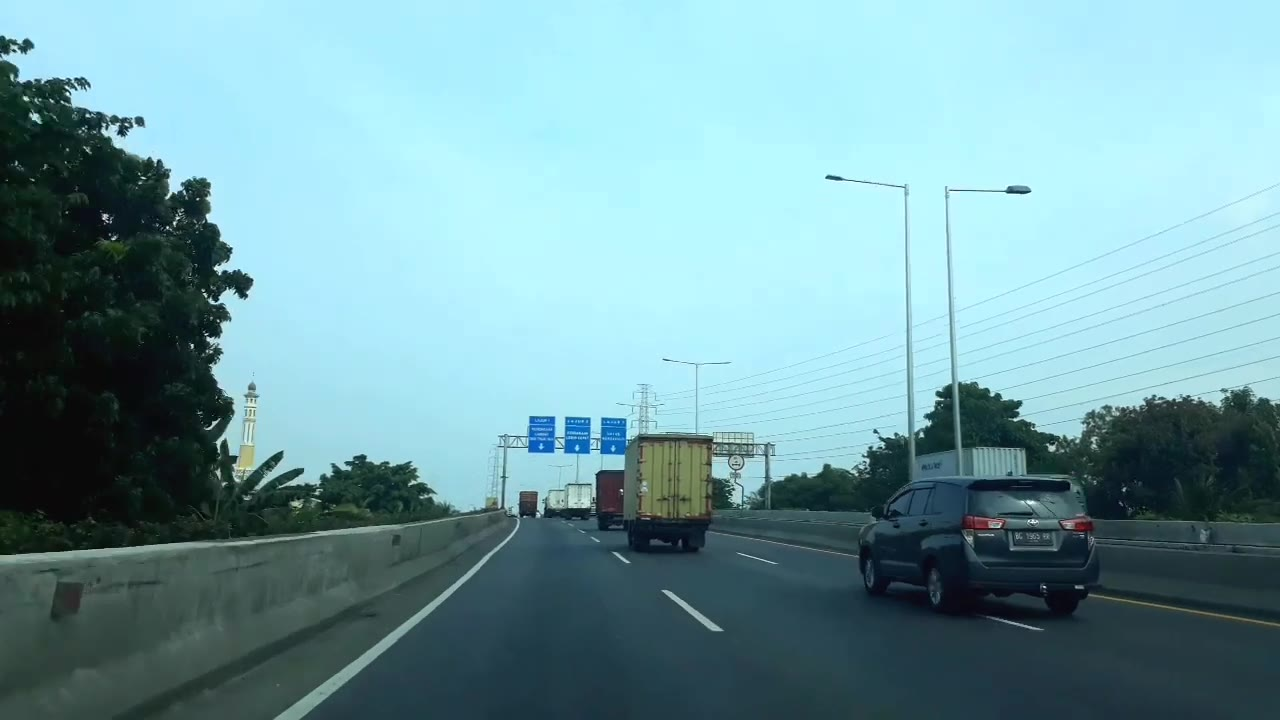plate_positive: (1012, 530, 1053, 546)
